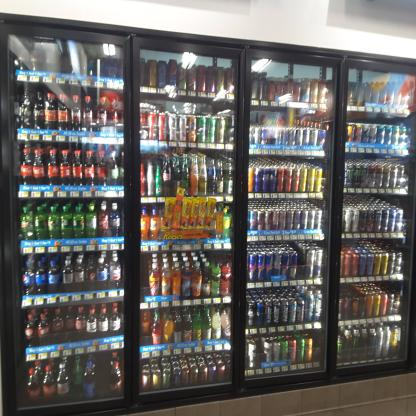Void: (138, 258, 149, 301), (142, 319, 150, 352), (314, 330, 321, 362), (298, 252, 306, 279), (257, 340, 264, 368)
